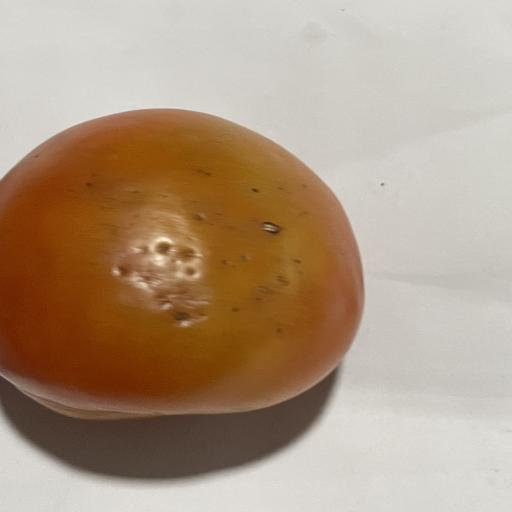ripe: (0, 109, 363, 419)
